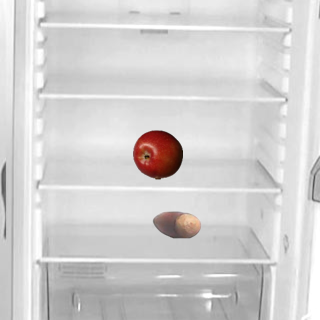Apple Braeburn: (132, 129, 182, 179)
Hazelnut: (151, 199, 201, 249)
